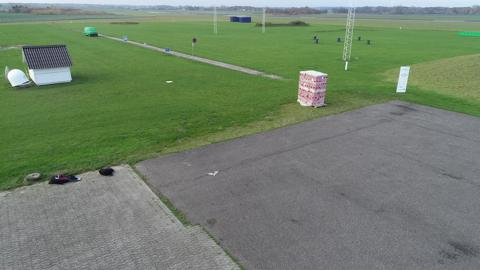RockwoolPallet: (297, 69, 329, 107)
